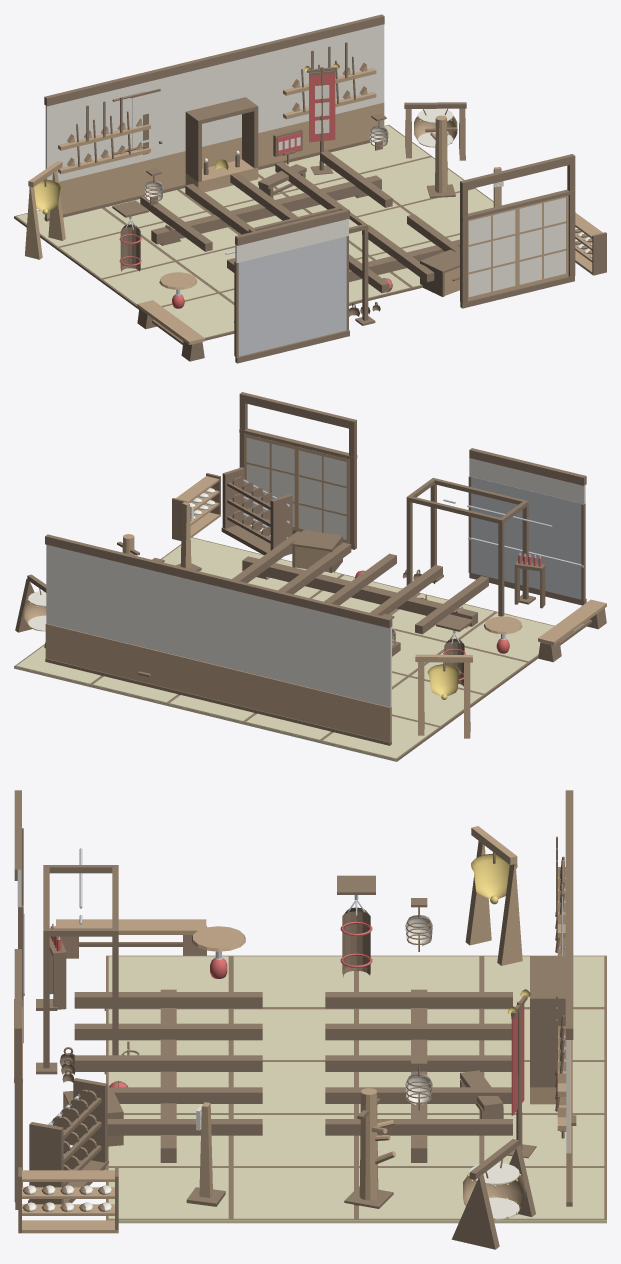
Rendered from martial-arts-dojo-and-fight-stages-dojo-training-circu-d65af306__18097.glb.
3 renders of one model, top to bottom at view 1: azimuth 30°, elevation 25°; view 2: azimuth 150°, elevation 25°; view 3: azimuth 270°, elevation 25°, orthographic. The views are drawn at different scales.
Visible parts, largest first — view 1: 023-mirror-wall/1, 025-roof-beams/0, 021-shrine-alcove/2, 022-wall-weapon-rack/2, 020-wall-weapon-rack/2, 020-wall-weapon-rack/1, 024-dojo-sliding-door/0, 024-dojo-sliding-door/door-left (×2), 021-shrine-alcove/0, 024-dojo-sliding-door/door-right (×2), 022-wall-weapon-rack/1, 021-shrine-alcove/1 (+39 smaller); view 2: 020-wall-weapon-rack/2, 022-wall-weapon-rack/2, 021-shrine-alcove/2, 023-mirror-wall/1, 026-roof-beams/0, 024-dojo-sliding-door/door-right (×2), 035-weight-rack/0, 020-wall-weapon-rack/1, 021-shrine-alcove/1, 022-wall-weapon-rack/1, 034-pull-up-rig/0, 024-dojo-sliding-door/0 (+31 smaller); view 3: 026-roof-beams/0, 025-roof-beams/0, 018-dojo-mat-tile/0, 035-weight-rack/0, 019-dojo-mat-tile/0, 014-dojo-mat-tile/0, 002-dojo-mat-tile/0, 006-dojo-mat-tile/0, 017-dojo-mat-tile/0, 021-shrine-alcove/0, 010-dojo-mat-tile/0, 012-dojo-mat-tile/0 (+39 smaller).
Boxes of the visible parts, x1,y1,x2,y2 form: 023-mirror-wall/1: [238, 236, 346, 356]; 025-roof-beams/0: [140, 150, 392, 251]; 021-shrine-alcove/2: [159, 51, 271, 157]; 022-wall-weapon-rack/2: [272, 24, 384, 129]; 020-wall-weapon-rack/2: [45, 79, 159, 181]; 020-wall-weapon-rack/1: [45, 118, 159, 218]; 024-dojo-sliding-door/0: [460, 154, 575, 308]; 024-dojo-sliding-door/door-left (×2): [517, 195, 568, 288]; 021-shrine-alcove/0: [157, 42, 271, 193]; 024-dojo-sliding-door/door-right (×2): [468, 207, 517, 300]; 022-wall-weapon-rack/1: [272, 62, 384, 163]; 021-shrine-alcove/1: [159, 130, 271, 192]; 020-wall-weapon-rack/2: [276, 600, 391, 707]; 022-wall-weapon-rack/2: [46, 544, 160, 651]; 021-shrine-alcove/2: [161, 572, 275, 679]; 023-mirror-wall/1: [471, 477, 583, 599]; 026-roof-beams/0: [232, 531, 488, 634]; 024-dojo-sliding-door/door-right (×2): [296, 447, 349, 543]; 035-weight-rack/0: [221, 467, 292, 555]; 020-wall-weapon-rack/1: [275, 680, 391, 742]; 021-shrine-alcove/1: [160, 651, 275, 714]; 022-wall-weapon-rack/1: [45, 623, 160, 686]; 034-pull-up-rig/0: [406, 478, 535, 616]; 024-dojo-sliding-door/0: [239, 392, 357, 549]; 026-roof-beams/0: [74, 989, 262, 1162]; 025-roof-beams/0: [325, 989, 512, 1162]; 018-dojo-mat-tile/0: [231, 1168, 356, 1223]; 035-weight-rack/0: [28, 1078, 108, 1204]; 019-dojo-mat-tile/0: [108, 1168, 231, 1223]; 014-dojo-mat-tile/0: [233, 1115, 353, 1166]; 002-dojo-mat-tile/0: [233, 956, 353, 1007]; 006-dojo-mat-tile/0: [233, 1009, 353, 1060]; 017-dojo-mat-tile/0: [356, 1168, 471, 1223]; 021-shrine-alcove/0: [530, 869, 573, 1115]; 010-dojo-mat-tile/0: [233, 1062, 353, 1113]; 012-dojo-mat-tile/0: [484, 1115, 604, 1166].
Bounding box in the file's own units: 11.81 × 3.2 × 9.47.
